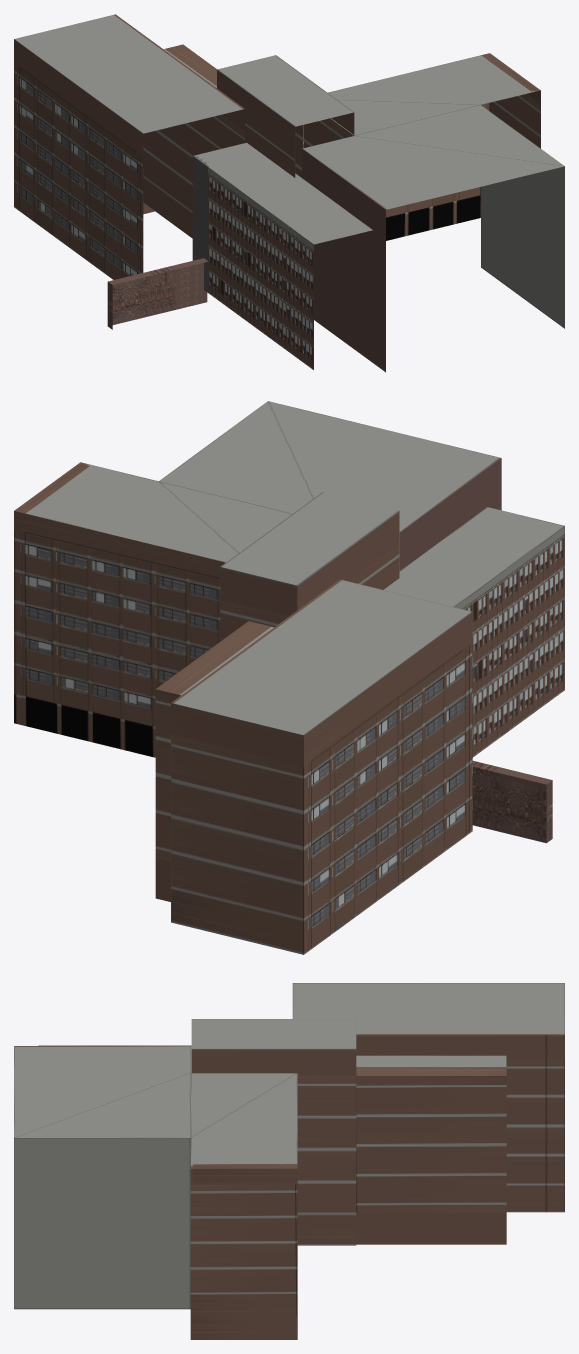
The model's file is Frank_Forward.obj.
The picture shows the model from 3 angles, top to bottom: view 1: azimuth 30°, elevation 25°; view 2: azimuth 150°, elevation 25°; view 3: azimuth 270°, elevation 25°; orthographic projection. The views are drawn at different scales.
Parts seen in each view (by area): view 1: Frank_Forward_4_Mesh.001; view 2: Frank_Forward_4_Mesh.001; view 3: Frank_Forward_4_Mesh.001.
Boxes of the visible parts, left/top/right/bottom form: Frank_Forward_4_Mesh.001: left=14, top=14, right=564, bottom=372; Frank_Forward_4_Mesh.001: left=14, top=401, right=564, bottom=954; Frank_Forward_4_Mesh.001: left=14, top=983, right=564, bottom=1339.
Size of the model in its own units: 0.045 by 0.0214 by 0.0517.
Materials: 1 (1 with a texture image).
